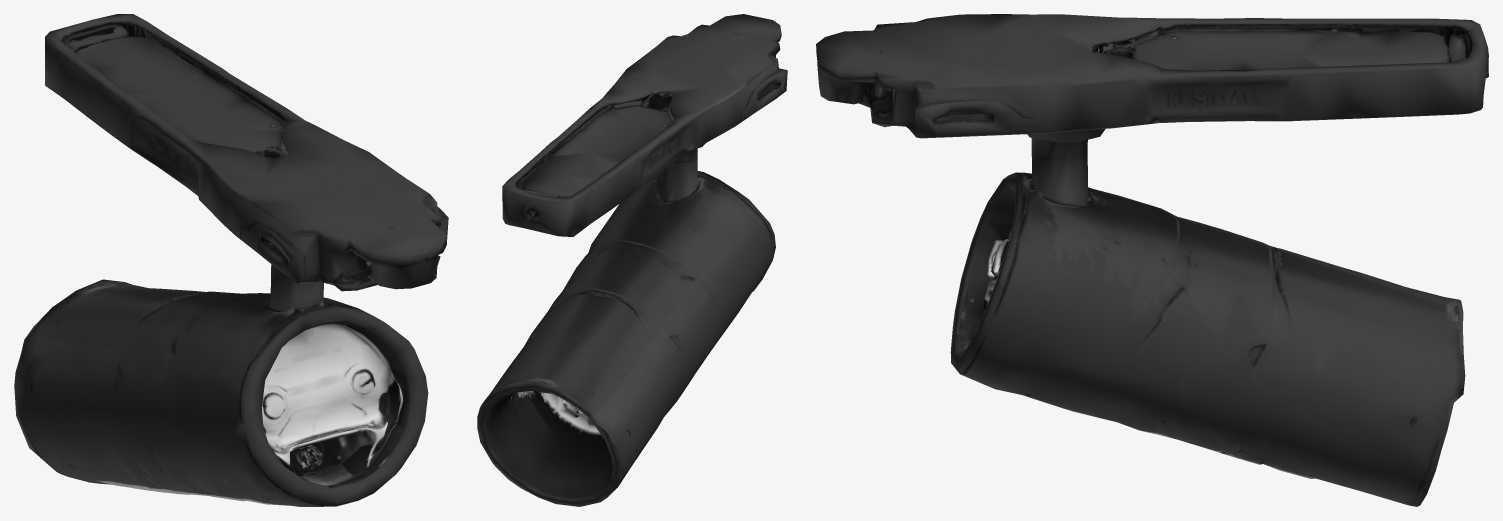
Rendered from luminaria8.obj.
3 views of the same model, side by side, from view 1: azimuth 30°, elevation 25°; view 2: azimuth 150°, elevation 25°; view 3: azimuth 270°, elevation 25° (orthographic). The views are drawn at different scales.
Visible parts, largest first — view 1: luminaria8; view 2: luminaria8; view 3: luminaria8.
Part boxes in pixels (x1,y1,x2,y2): luminaria8: (14, 14, 448, 506); luminaria8: (477, 14, 787, 506); luminaria8: (816, 14, 1488, 506).
Size of the model in its own units: 0.7719 by 1.61 by 2.17.
Materials: 1 (1 with a texture image).
